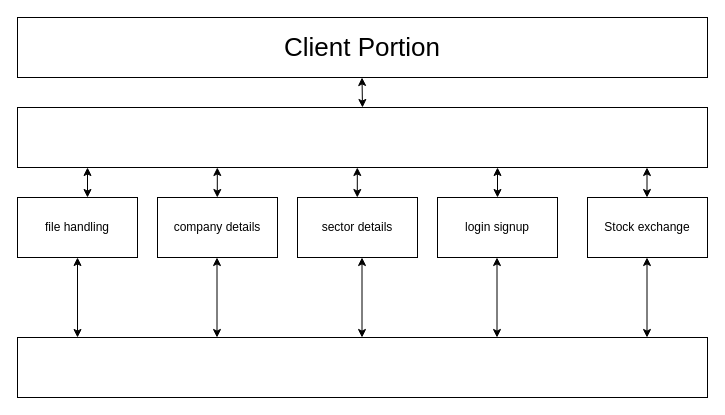
Some shapes in this 725 by 415 pixel diagram are drawn without their labels. The shapes that lost their labels are listed below. From the top down, each one's centre as x and y in pixels, then its label:
At point 362,137: "API Gateway".
At point 362,367: "Database".
